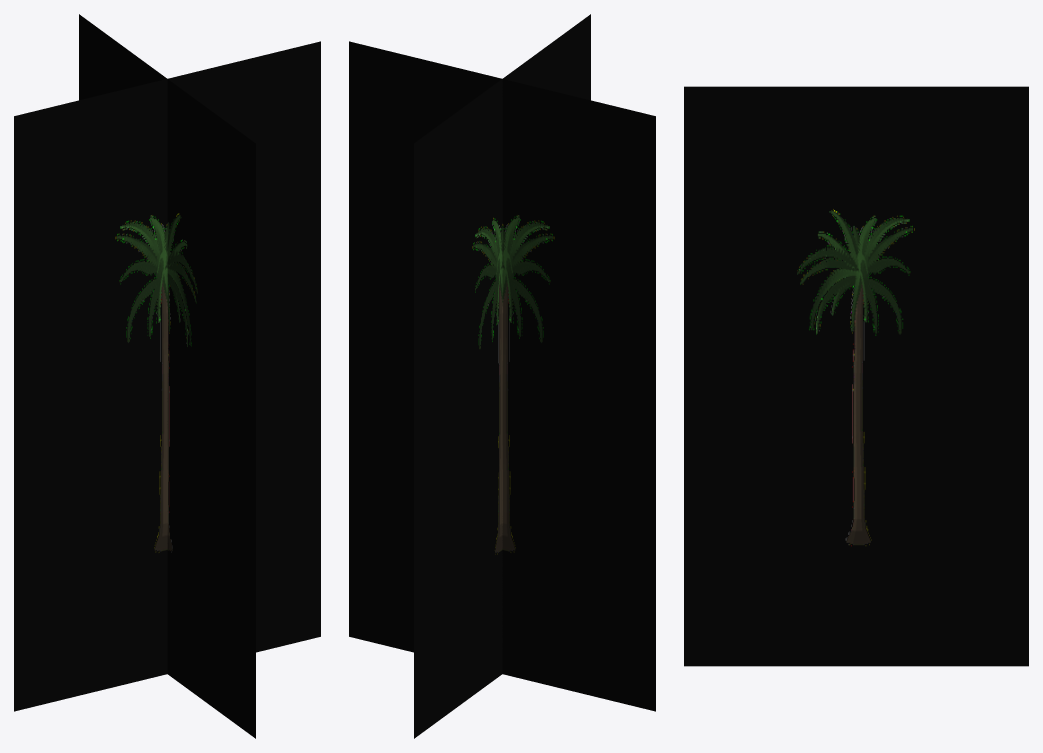
Rendered from IslandPalm.glb.
3 views of the same model, side by side, from view 1: azimuth 30°, elevation 25°; view 2: azimuth 150°, elevation 25°; view 3: azimuth 270°, elevation 25° (orthographic). The views are drawn at different scales.
Bounding box in the file's own units: 4.89 × 9.07 × 4.89.
1 material, 1 textured.
